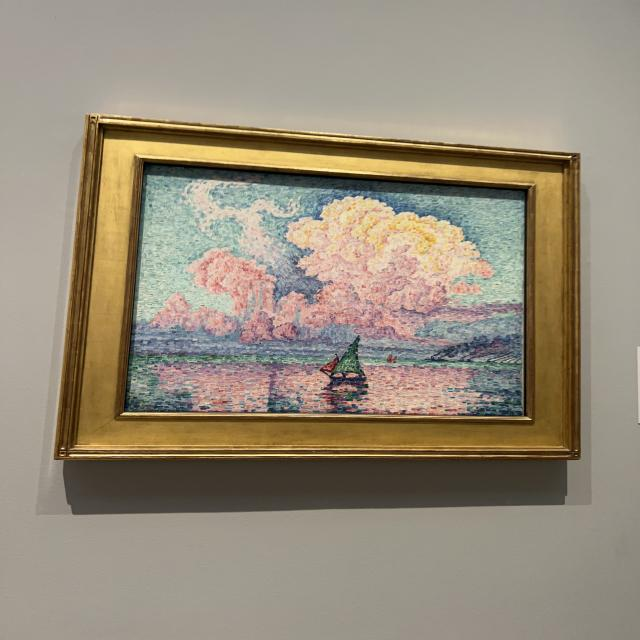sunrise: (127, 168, 522, 415)
